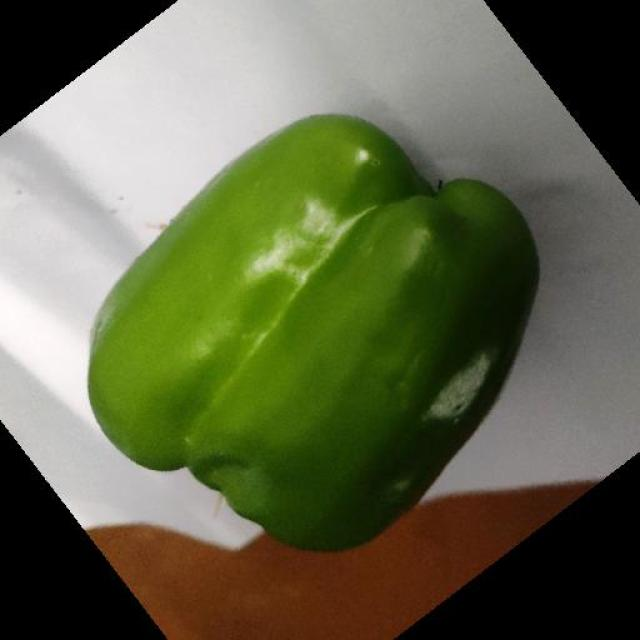Stale_Capsicum: (311, 196, 528, 520)
